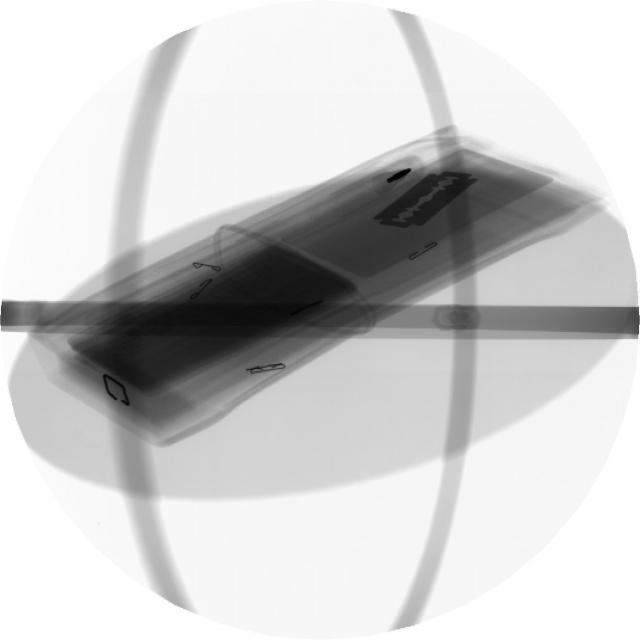BLADE: (371, 168, 479, 237)
